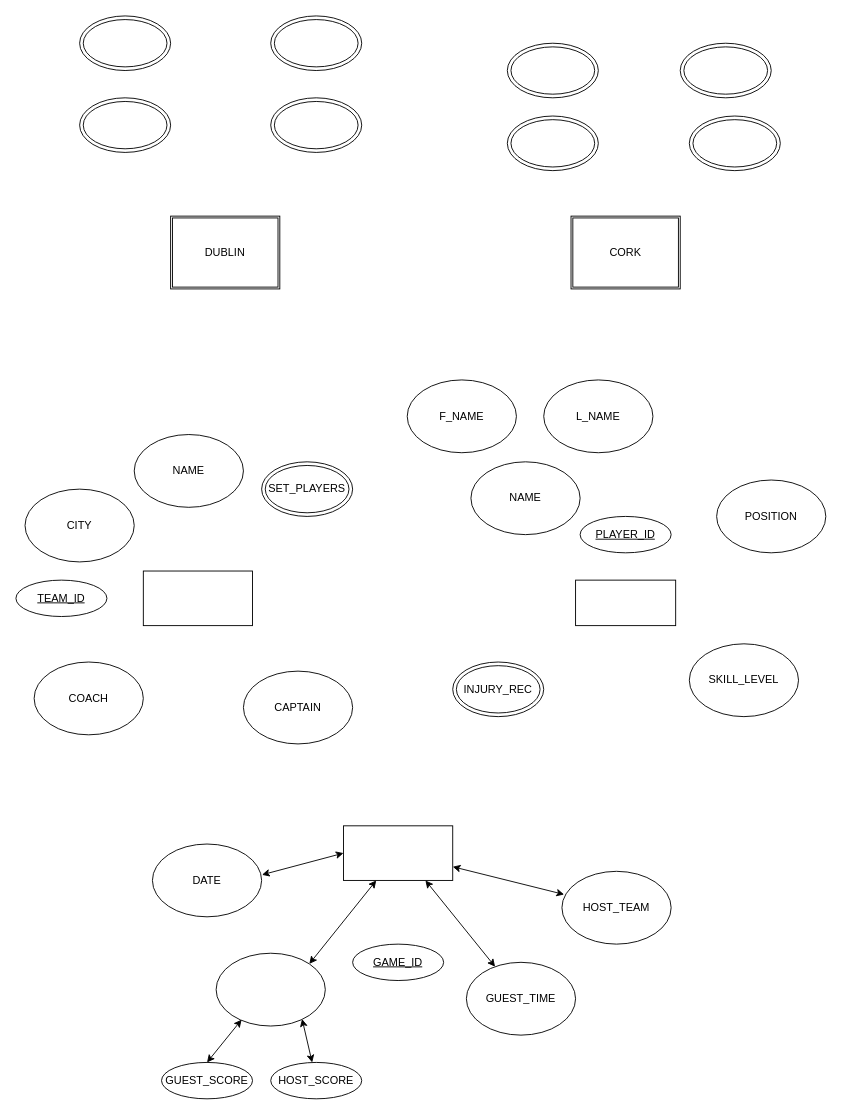
The diagram is 842 pixels wide and 1115 high, and some of its shapes have lost their labels. The box of each missing label's shape, as (x1, y1, x2, y2) in pixels:
GAME: (343, 825, 453, 880)
PLAYER: (575, 579, 676, 626)
SCORE: (215, 952, 325, 1026)
TEAM: (142, 570, 253, 626)
